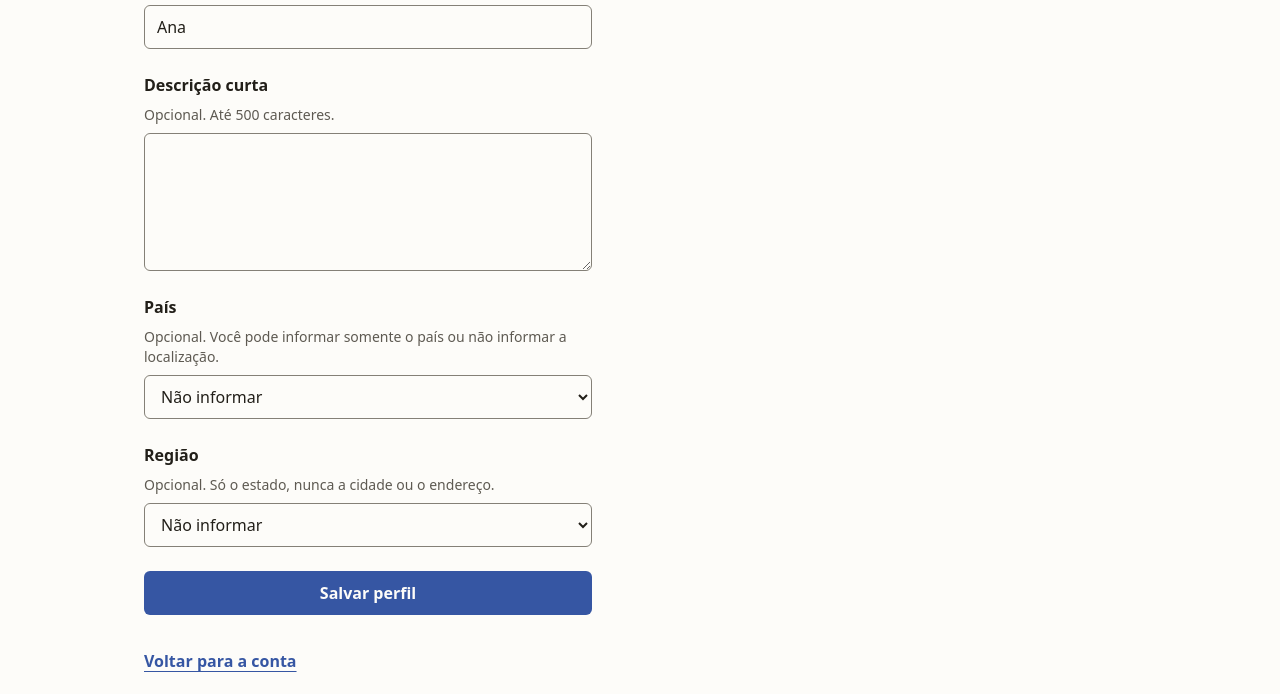
Test: perfil: edição › uma releitura em segundo plano não troca a versão sobre a qual a edição foi feita
This screenshot has width=1280, height=694.
(page scrolled)
Expected: the field labelled "Nome de exibição" is shown, [144,5,592,49]
Click the button "Salvar perfil": [368, 593] box [144,571,592,615]
(page scrolled)
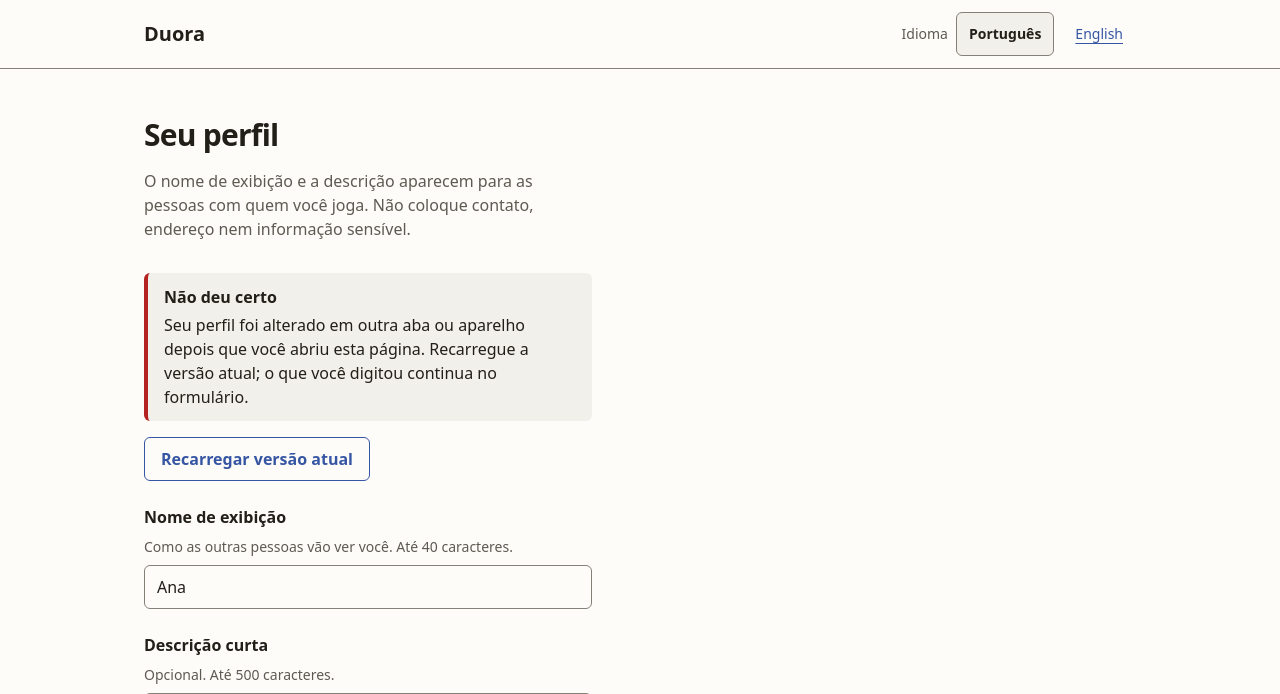
Now the text "alterado em outra aba ou aparelho" is shown, box [164,314,529,408]
